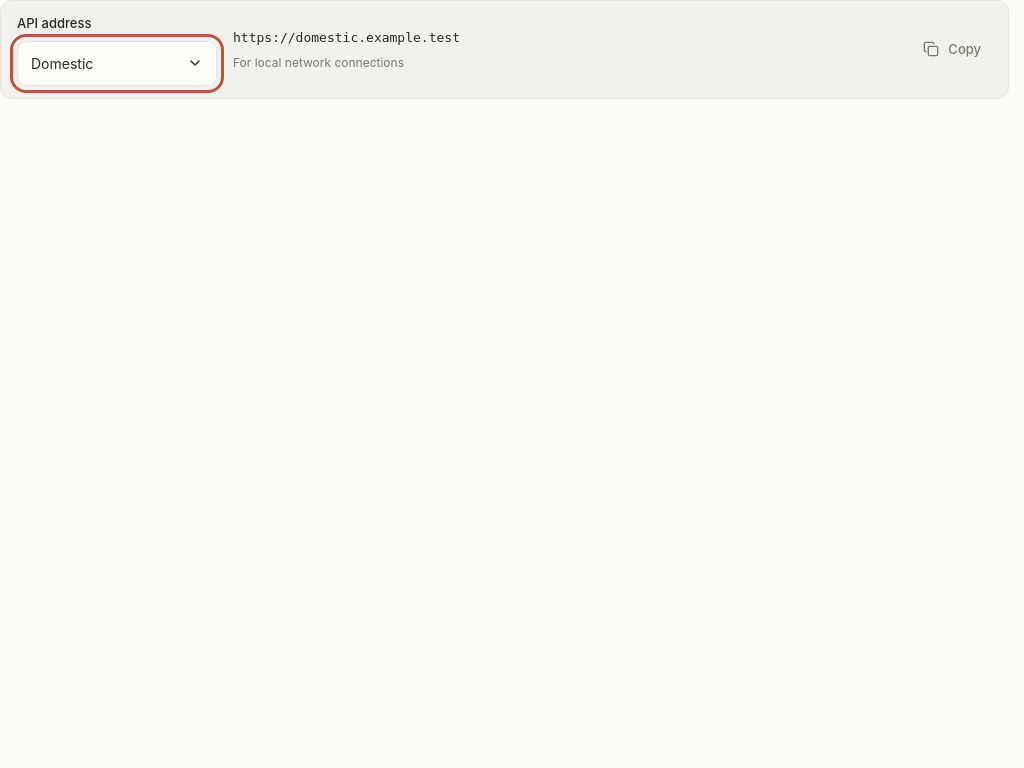
Scenario: keeps another account’s preference separate and supports keyboard selection
Expected: the text "https://domestic.example.test" is shown, [233,30,460,45]
Step 1. Press Enter
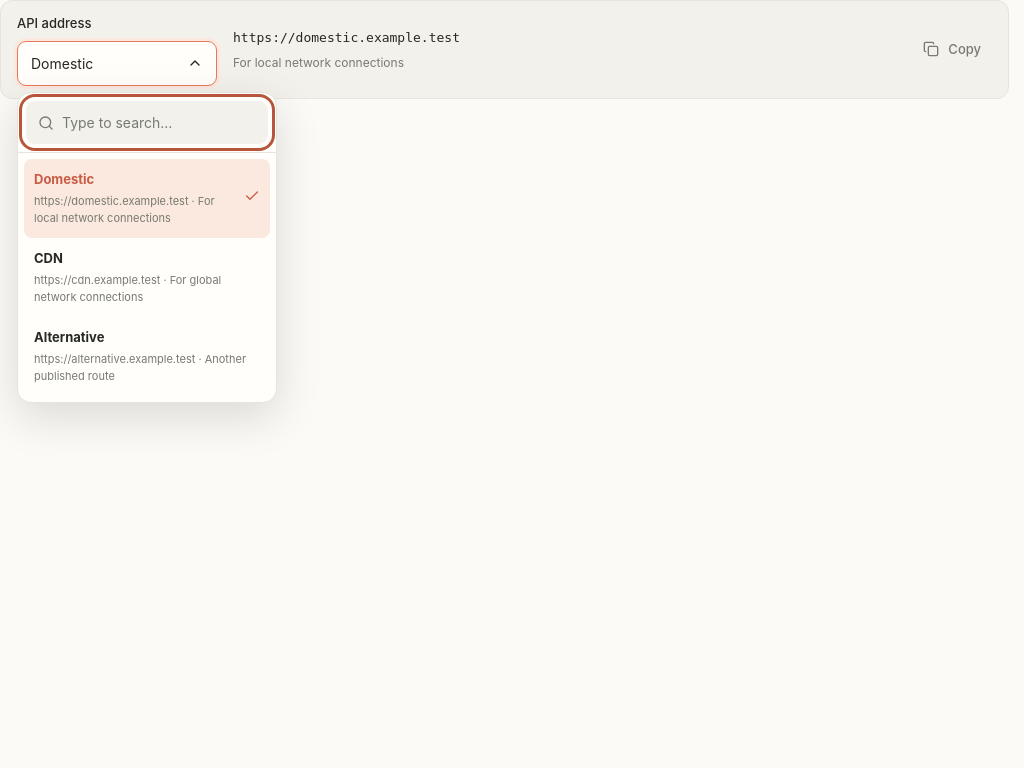
Result: the option that starts with "CDN" is shown at [34,250,221,304]
Result: the dropdown named "API address" is expanded at [17,41,217,86]
Step 2. Type "CDN" into the dropdown named "Search API address" → (147,122), box [26,101,268,144]
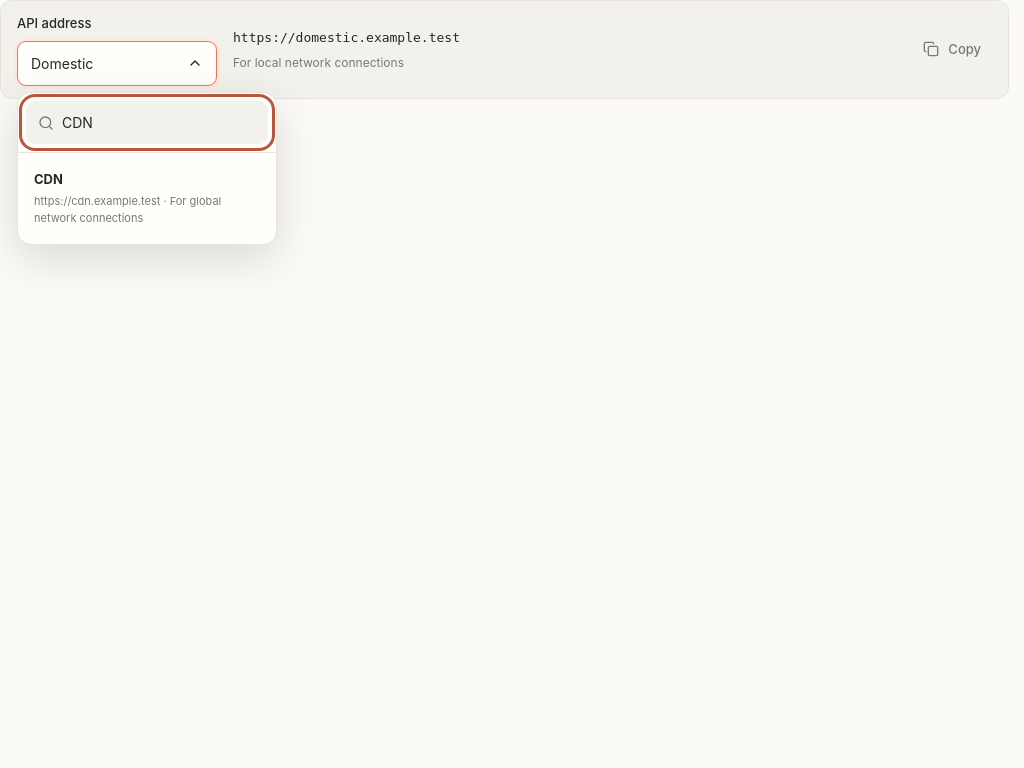
Step 3. Press Arrowdown Enter
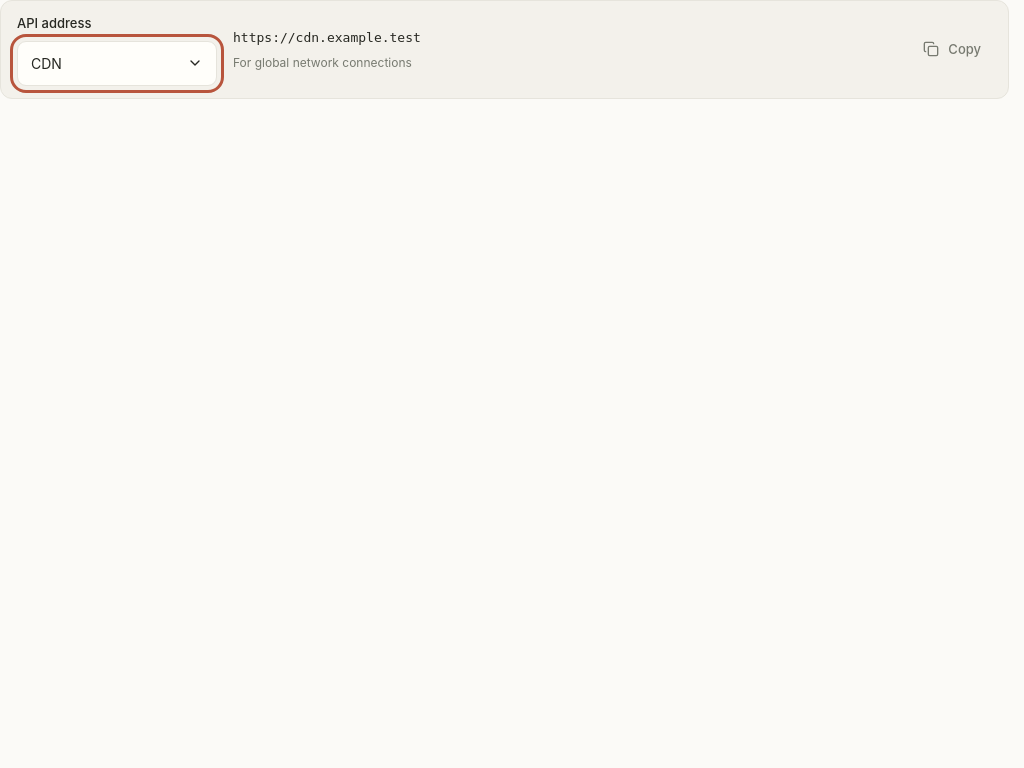
Result: the text "https://cdn.example.test" is shown at [233,30,421,45]
Result: the dropdown named "API address" is collapsed at [17,41,217,86]
